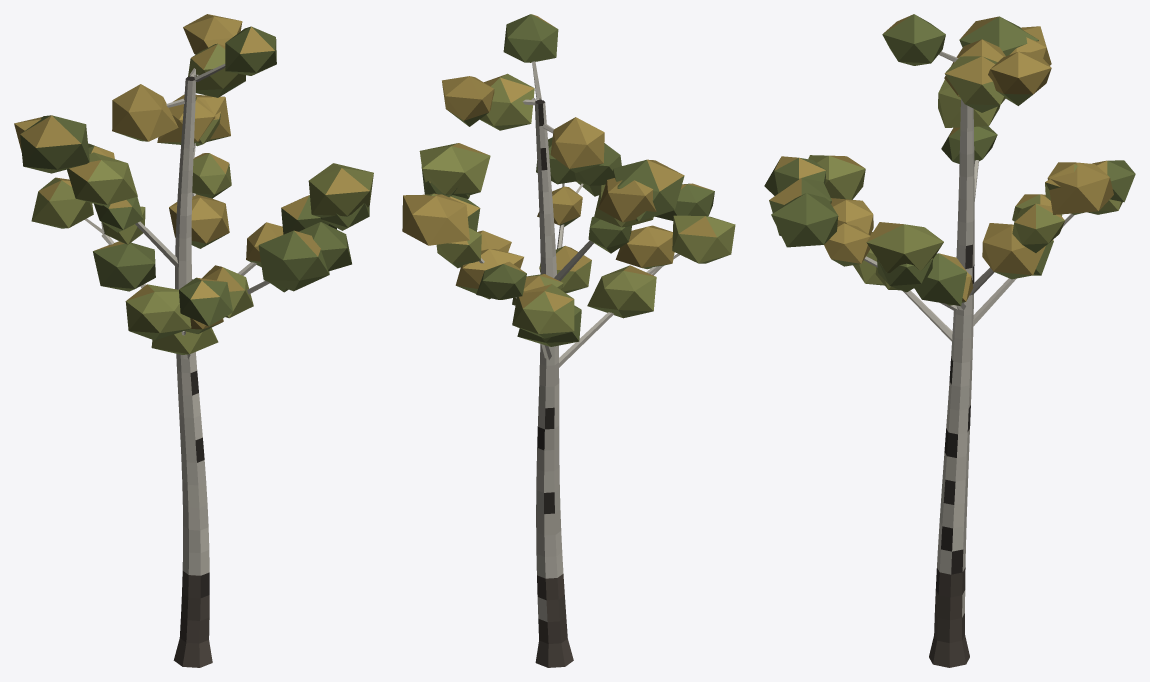
File: birch.glb
The picture shows the model from 3 angles, left to right: view 1: azimuth 30°, elevation 25°; view 2: azimuth 150°, elevation 25°; view 3: azimuth 270°, elevation 25°; orthographic projection. The views are drawn at different scales.
Visible parts, largest first — view 1: birch; view 2: birch; view 3: birch.
Boxes of the visible parts, box(x1,y1,x2,y2) form: birch: box(14, 14, 373, 667); birch: box(402, 14, 735, 667); birch: box(764, 14, 1135, 667).
Bounding box in the file's own units: 3.85 × 7.65 × 3.87.
